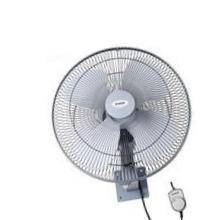fan: (47, 41, 196, 220)
